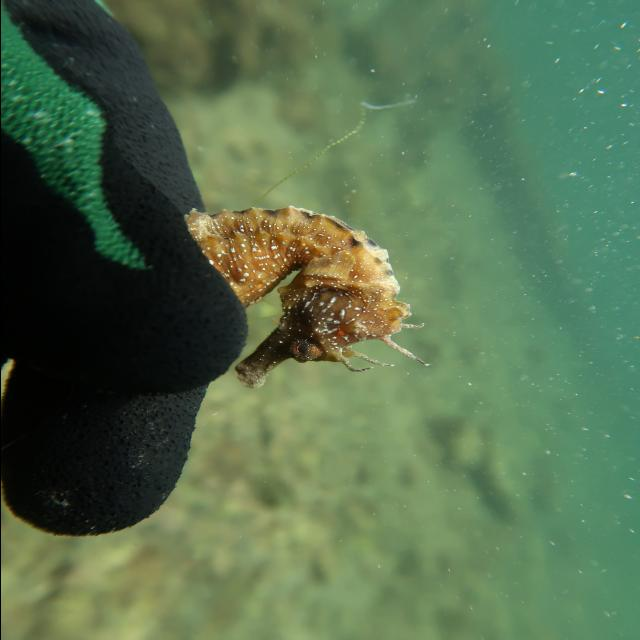Guttu: (231, 266, 413, 394)
